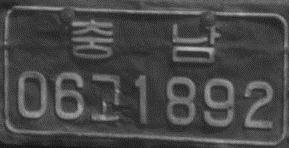0: (17, 69, 47, 119)
1: (127, 74, 157, 123)
2: (243, 80, 273, 129)
6: (54, 71, 84, 120)
8: (165, 75, 196, 127)
9: (203, 78, 234, 127)
고: (89, 72, 121, 121)
충남_D: (71, 19, 219, 64)
